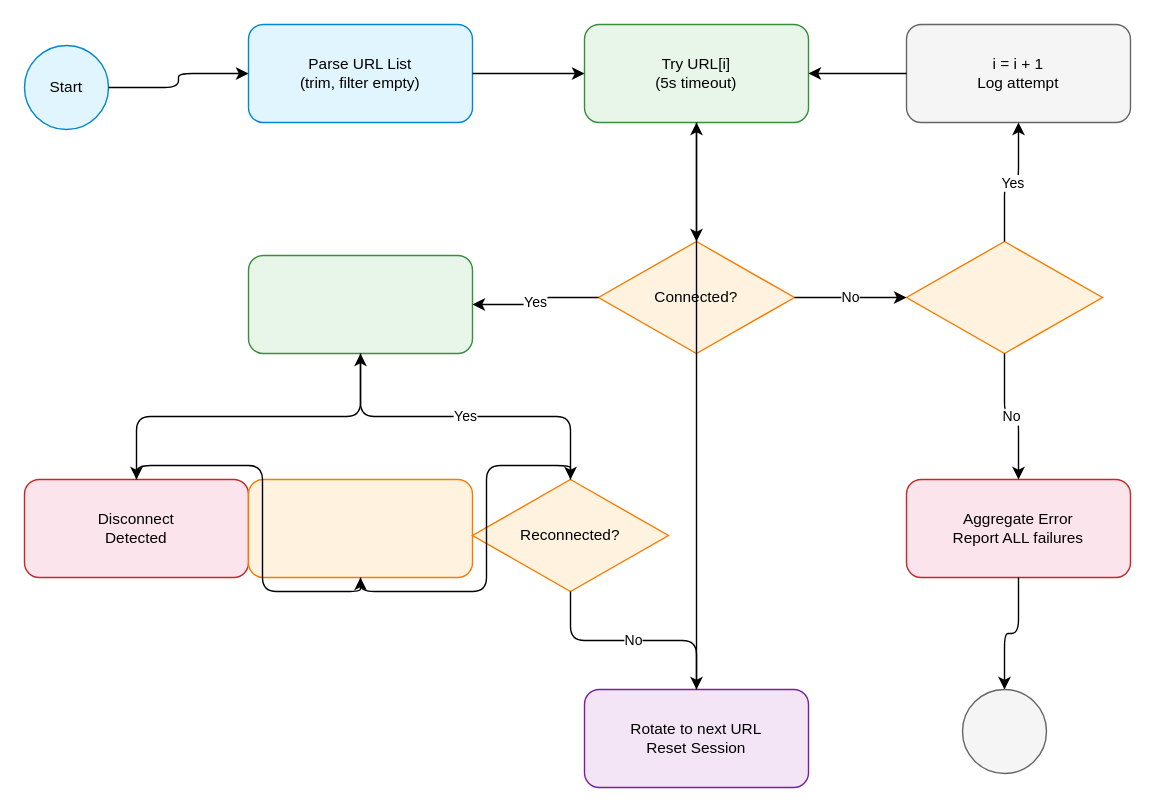
Some shapes in this 1155 by 812 pixel diagram are drawn without their labels. The centre of each missing label's shape, as x and y in pixels:
"End" goes at (1003,731).
"More URLs?" goes at (1003,297).
"Retry activeUrl (3 attempts, backoff)" goes at (359,528).
"Store as activeUrl Normal Operation" goes at (359,304).
